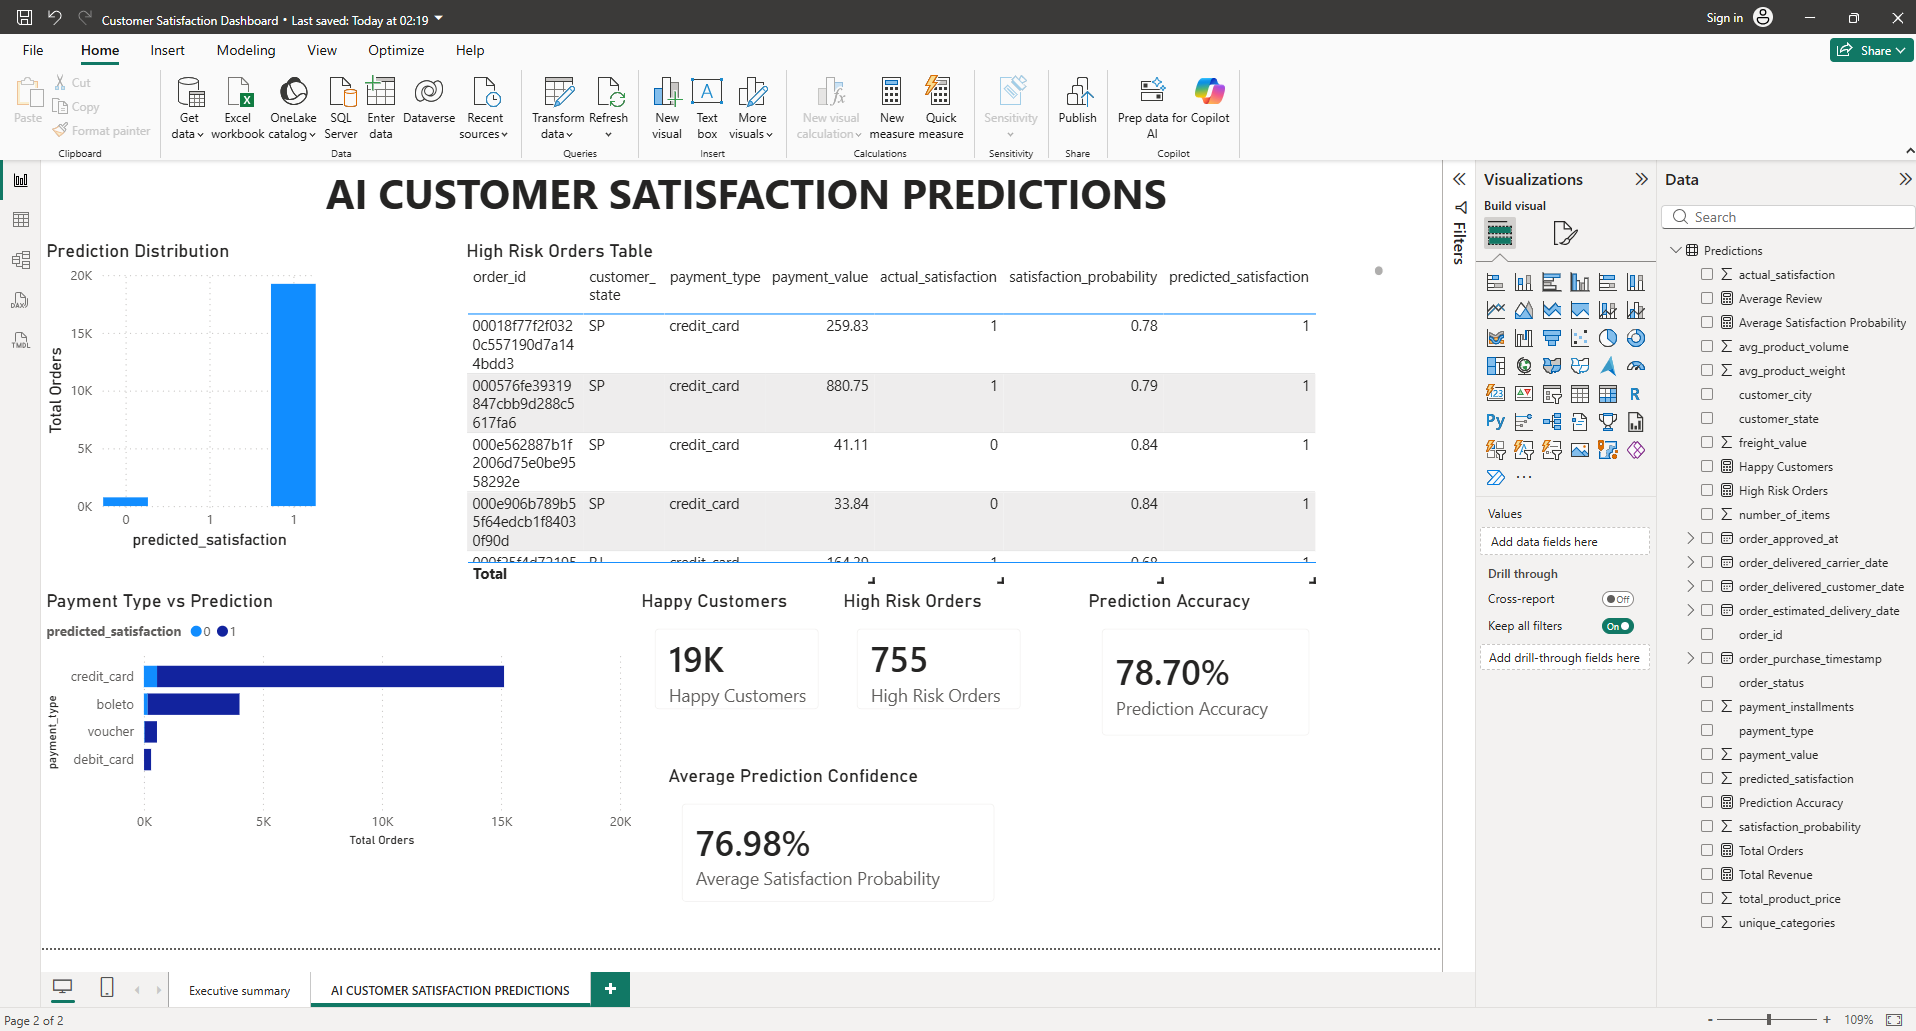

Layout of this report page (visuals, bound fields, positions):
{"tool":"powerbi","page":{"name":"AI CUSTOMER SATISFACTION PREDICTIONS","canvas":[1280,720],"ordinal":1},"visuals":[{"type":"textbox","box":[8,0,1272,88],"z":0},{"type":"clusteredColumnChart","title":"Prediction Distribution","fields":{"Y":["Predictions.Total Orders"],"Category":["Predictions.predicted_satisfaction"]},"box":[0,72,256,288],"z":1000},{"type":"barChart","title":"Payment Type vs Prediction","fields":{"Category":["Predictions.payment_type"],"Y":["Predictions.Total Orders"],"Series":["Predictions.predicted_satisfaction"]},"box":[0,392,544,240],"z":1001},{"type":"tableEx","title":"High Risk Orders Table","fields":{"Values":["Predictions.order_id","Predictions.customer_state","Predictions.payment_type","select","Sum(Predictions.payment_value)","Sum(Predictions.predicted_satisfaction)","select1","Sum(Predictions.actual_satisfaction)","select3","select2","Sum(Predictions.satisfaction_probability)"]},"box":[384,72,848,320],"z":1002},{"type":"cardVisual","title":"Happy Customers","fields":{"Data":["Predictions.Happy Customers"]},"box":[544,392,184,128],"z":1003},{"type":"cardVisual","title":"High Risk Orders","fields":{"Data":["Predictions.High Risk Orders"]},"box":[728,392,184,128],"z":1004},{"type":"cardVisual","title":"Prediction Accuracy","fields":{"Data":["Predictions.Prediction Accuracy"]},"box":[952,392,224,152],"z":1005},{"type":"cardVisual","title":"Average Prediction Confidence","fields":{"Data":["Predictions.Average Satisfaction Probability"]},"box":[568,552,320,144],"z":1006}]}

Visuals, with their boxes on the page's 1280x720 design canvas (x1, y1, x2, y2). These are canvas units, not pixel positions in the 1916x1031 screenshot, which may show the page scaled, cropped or inside an application window:
textbox: x1=8 y1=0 x2=1280 y2=88
"Prediction Distribution" clusteredColumnChart: x1=0 y1=72 x2=256 y2=360
"Payment Type vs Prediction" barChart: x1=0 y1=392 x2=544 y2=632
"High Risk Orders Table" tableEx: x1=384 y1=72 x2=1232 y2=392
"Happy Customers" cardVisual: x1=544 y1=392 x2=728 y2=520
"High Risk Orders" cardVisual: x1=728 y1=392 x2=912 y2=520
"Prediction Accuracy" cardVisual: x1=952 y1=392 x2=1176 y2=544
"Average Prediction Confidence" cardVisual: x1=568 y1=552 x2=888 y2=696
